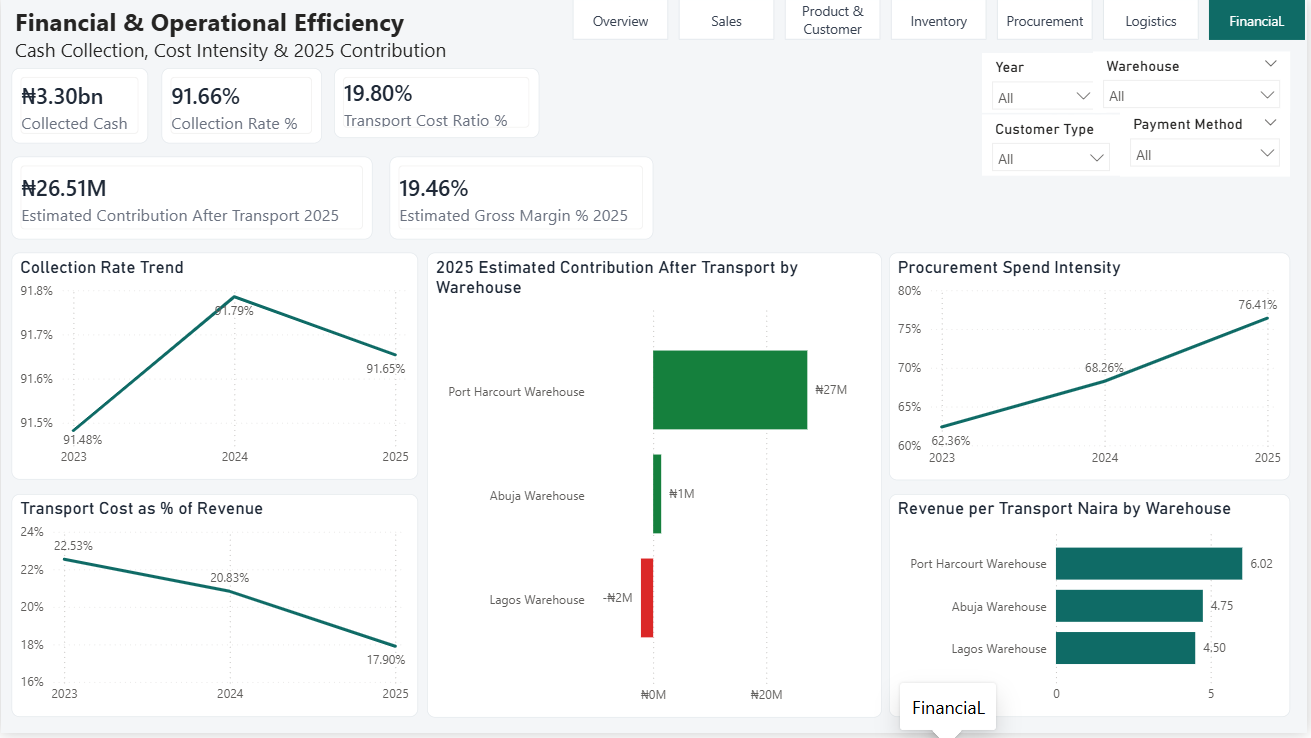

The dashboard page shown, as its layout file describes it:
{"tool":"powerbi","page":{"name":"FinanciaL","canvas":[1280,720],"ordinal":6},"visuals":[{"type":"textbox","box":[9.4,0,459.5,79.7],"z":0},{"type":"slicer","fields":{"Values":["Date.Year"]},"box":[961.7,53.3,121.7,58.3],"z":1000},{"type":"slicer","fields":{"Values":["warehouses.WarehouseName"]},"box":[1070,51.7,193.3,60],"z":2000},{"type":"slicer","fields":{"Values":["customers.CustomerType"]},"box":[961.7,113.3,135,60],"z":3000},{"type":"slicer","fields":{"Values":["payments.PaymentMethod"]},"box":[1096.7,108.3,166.7,65],"z":4000},{"type":"cardVisual","fields":{"Data":["Measures_Table.Collected Cash"]},"box":[10,67.1,134.3,74.3],"z":5000},{"type":"cardVisual","fields":{"Data":["Measures_Table.Collection Rate %"]},"box":[157.1,67.1,157.1,74.3],"z":6000},{"type":"cardVisual","fields":{"Data":["Measures_Table.Transport Cost Ratio %"]},"box":[327.1,67.1,201.4,68.6],"z":7000},{"type":"cardVisual","fields":{"Data":["Measures_Table.Estimated Gross Margin % 2025"]},"box":[381.4,154.3,258.6,81.4],"z":8000},{"type":"cardVisual","fields":{"Data":["Measures_Table.Estimated Contribution After Transport 2025"]},"box":[10,154.3,354.3,81.4],"z":9000},{"type":"lineChart","title":"Collection Rate Trend","fields":{"Y":["Measures_Table.Collection Rate %"],"Category":["Date.Year"]},"box":[10,248.6,398.6,222.9],"z":10000},{"type":"lineChart","title":"Transport Cost as % of Revenue","fields":{"Category":["Date.Year"],"Y":["Measures_Table.Transport Cost Ratio %"]},"box":[10,485.7,398.6,218.6],"z":11000},{"type":"lineChart","title":"Procurement Spend Intensity","fields":{"Y":["Measures_Table.Procurement Spend Intensity %"],"Category":["Date.Year"]},"box":[870,248.3,393.3,223.3],"z":12000},{"type":"clusteredBarChart","title":"Revenue per Transport Naira by Warehouse","fields":{"Y":["Measures_Table.Revenue per Transport Naira"],"Category":["warehouses.WarehouseName"]},"box":[870,485,393.3,218.3],"z":13000},{"type":"clusteredBarChart","title":"2025 Estimated Contribution After Transport  by Warehouse","fields":{"Category":["warehouses.WarehouseName"],"Y":["Measures_Table.Estimated Contribution After Transport 2025"]},"box":[417.1,248.6,445.7,455.7],"z":14000},{"type":"pageNavigator","box":[560,0,718.3,40],"z":15000}]}

Visuals, with their boxes in screenshot pixels (x1, y1, x2, y2), scaled from the page's 1280x720 canvas onto the 1311x738 screenshot:
textbox: BBox(10, 0, 480, 82)
slicer - Date.Year: BBox(985, 55, 1110, 114)
slicer - warehouses.WarehouseName: BBox(1096, 53, 1294, 114)
slicer - customers.CustomerType: BBox(985, 116, 1123, 178)
slicer - payments.PaymentMethod: BBox(1123, 111, 1294, 178)
cardVisual - Measures_Table.Collected Cash: BBox(10, 69, 148, 145)
cardVisual - Measures_Table.Collection Rate %: BBox(161, 69, 322, 145)
cardVisual - Measures_Table.Transport Cost Ratio %: BBox(335, 69, 541, 139)
cardVisual - Measures_Table.Estimated Gross Margin % 2025: BBox(391, 158, 656, 242)
cardVisual - Measures_Table.Estimated Contribution After Transport 2025: BBox(10, 158, 373, 242)
"Collection Rate Trend" lineChart: BBox(10, 255, 418, 483)
"Transport Cost as % of Revenue" lineChart: BBox(10, 498, 418, 722)
"Procurement Spend Intensity" lineChart: BBox(891, 255, 1294, 483)
"Revenue per Transport Naira by Warehouse" clusteredBarChart: BBox(891, 497, 1294, 721)
"2025 Estimated Contribution After Transport  by Warehouse" clusteredBarChart: BBox(427, 255, 884, 722)
pageNavigator: BBox(574, 0, 1309, 41)
